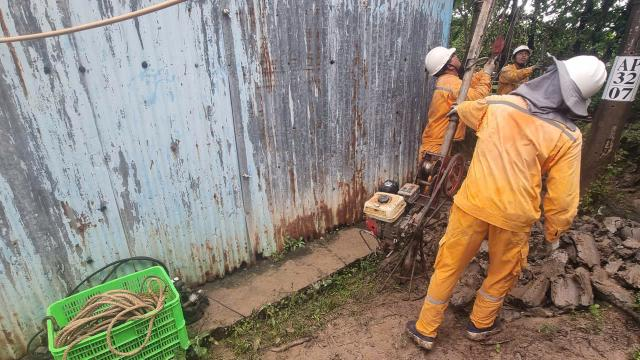harness: (533, 228, 559, 264), (446, 98, 468, 120), (480, 57, 500, 79), (530, 60, 546, 71)
helmet: (558, 49, 610, 100), (424, 38, 468, 78), (508, 41, 531, 61)
shoes: (459, 304, 514, 344), (406, 310, 440, 350)
